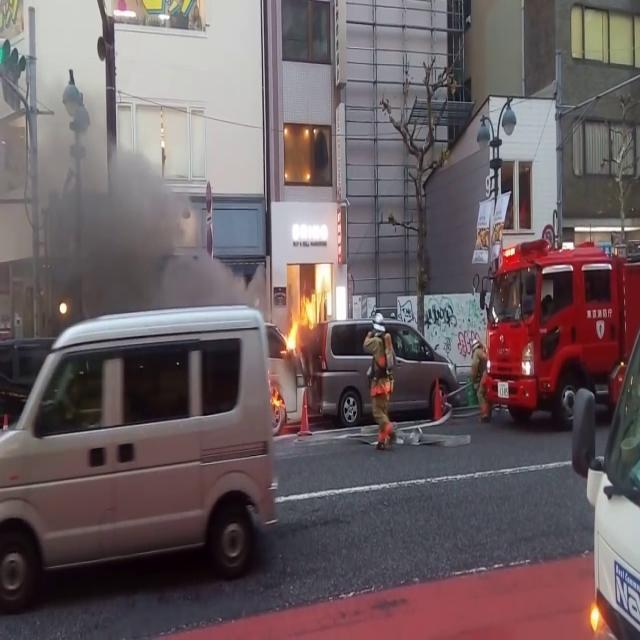Fire: (274, 257, 336, 359)
Smoke: (0, 108, 258, 316)
